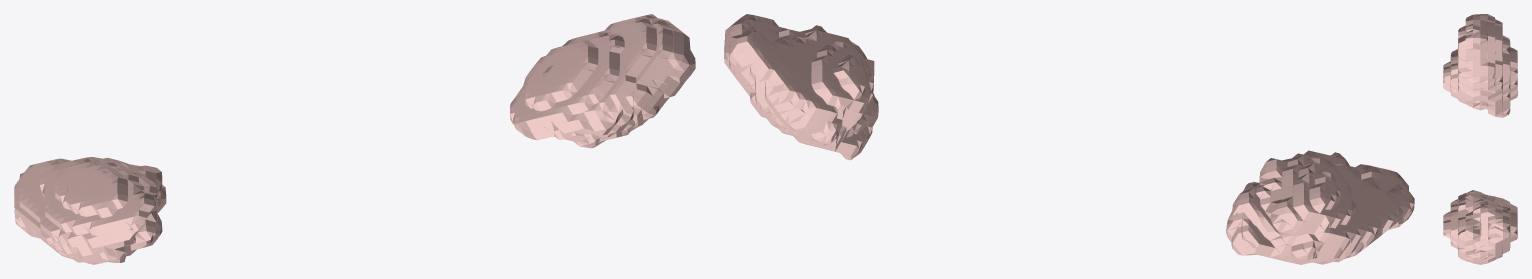
The model's file is VFB_00102141.glb.
The picture shows the model from 3 angles, left to right: view 1: azimuth 30°, elevation 25°; view 2: azimuth 150°, elevation 25°; view 3: azimuth 270°, elevation 25°; orthographic projection. The views are drawn at different scales.
Parts seen in each view (by area): view 1: VFB_00102141; view 2: VFB_00102141; view 3: VFB_00102141.
Boxes of the visible parts, x1,y1,x2,y2 form: VFB_00102141: [14, 14, 695, 264]; VFB_00102141: [724, 14, 1414, 264]; VFB_00102141: [1443, 14, 1517, 264].
Bounding box in the file's own units: 0.2679 × 0.0416 × 0.0392.
